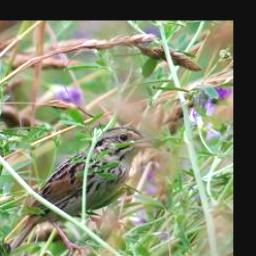Sparrow: (8, 126, 153, 256)
